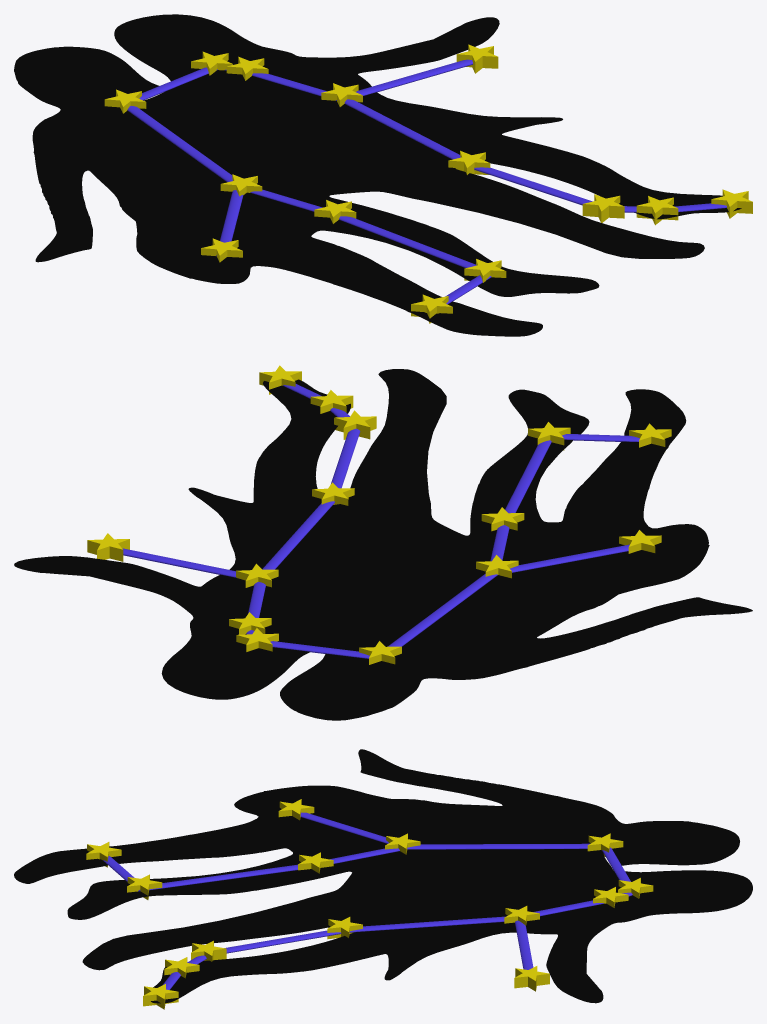
Rendered from hutago-za.glb.
The picture shows the model from 3 angles, top to bottom: view 1: azimuth 30°, elevation 25°; view 2: azimuth 150°, elevation 25°; view 3: azimuth 270°, elevation 25°; orthographic projection. The views are drawn at different scales.
Visible parts, largest first — view 1: トレース, 円柱.002, 円柱.005, 円柱, 円柱.009, 円柱.014, 円.003, 円.010, 円.009, 円.012, 円.013, 円.007 (+10 smaller); view 2: トレース, 円柱.002, 円柱, 円柱.005, 円柱.009, 円柱.003, 円.010, 円.003, 円柱.014, 円柱.013, 円.012, 円.005 (+9 smaller); view 3: トレース, 円柱.002, 円柱, 円柱.005, 円柱.014, 円.010, 円柱.003, 円.012, 円柱.009, 円.003, 円.013, 円.008 (+7 smaller).
Boxes of the visible parts, bbox=[...] form: トレース: bbox=[14, 14, 741, 336]; 円柱.002: bbox=[127, 106, 232, 182]; 円柱.005: bbox=[339, 216, 476, 267]; 円柱: bbox=[344, 99, 474, 170]; 円柱.009: bbox=[356, 59, 472, 95]; 円柱.014: bbox=[474, 167, 592, 205]; 円.003: bbox=[582, 194, 624, 222]; 円.010: bbox=[456, 44, 498, 73]; 円.009: bbox=[636, 196, 678, 225]; 円.012: bbox=[711, 189, 752, 218]; 円.013: bbox=[448, 150, 490, 174]; 円.007: bbox=[411, 294, 452, 323]; トレース: bbox=[14, 369, 752, 720]; 円柱.002: bbox=[388, 574, 497, 646]; 円柱: bbox=[262, 501, 334, 569]; 円柱.005: bbox=[505, 440, 551, 513]; 円柱.009: bbox=[122, 548, 236, 577]; 円柱.003: bbox=[510, 544, 629, 572]; 円.010: bbox=[87, 533, 129, 561]; 円.003: bbox=[334, 410, 376, 439]; 円柱.014: bbox=[331, 428, 360, 488]; 円柱.013: bbox=[270, 641, 369, 658]; 円.012: bbox=[259, 365, 301, 394]; 円.005: bbox=[619, 530, 661, 553]; トレース: bbox=[14, 749, 752, 1003]; 円柱.002: bbox=[407, 843, 589, 849]; 円柱: bbox=[349, 916, 505, 932]; 円柱.005: bbox=[149, 864, 297, 890]; 円柱.014: bbox=[224, 930, 341, 953]; 円.010: bbox=[514, 966, 549, 991]; 円柱.003: bbox=[300, 812, 388, 843]; 円.012: bbox=[143, 984, 178, 1009]; 円柱.009: bbox=[515, 920, 533, 969]; 円.003: bbox=[191, 940, 226, 961]; 円.013: bbox=[327, 917, 362, 939]; 円.008: bbox=[127, 874, 162, 899].
Size of the model in its own units: 46.76 by 0.8959 by 57.01.
